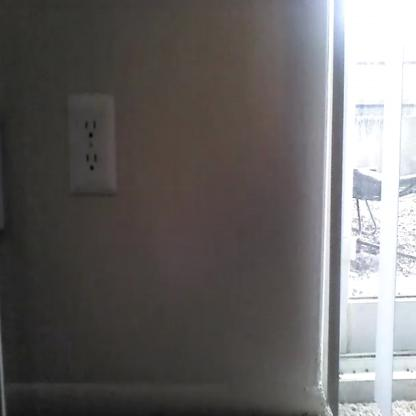OUTLET: (68, 93, 117, 195)
